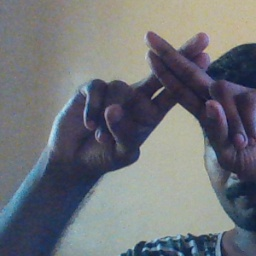F: (97, 24, 253, 151)
